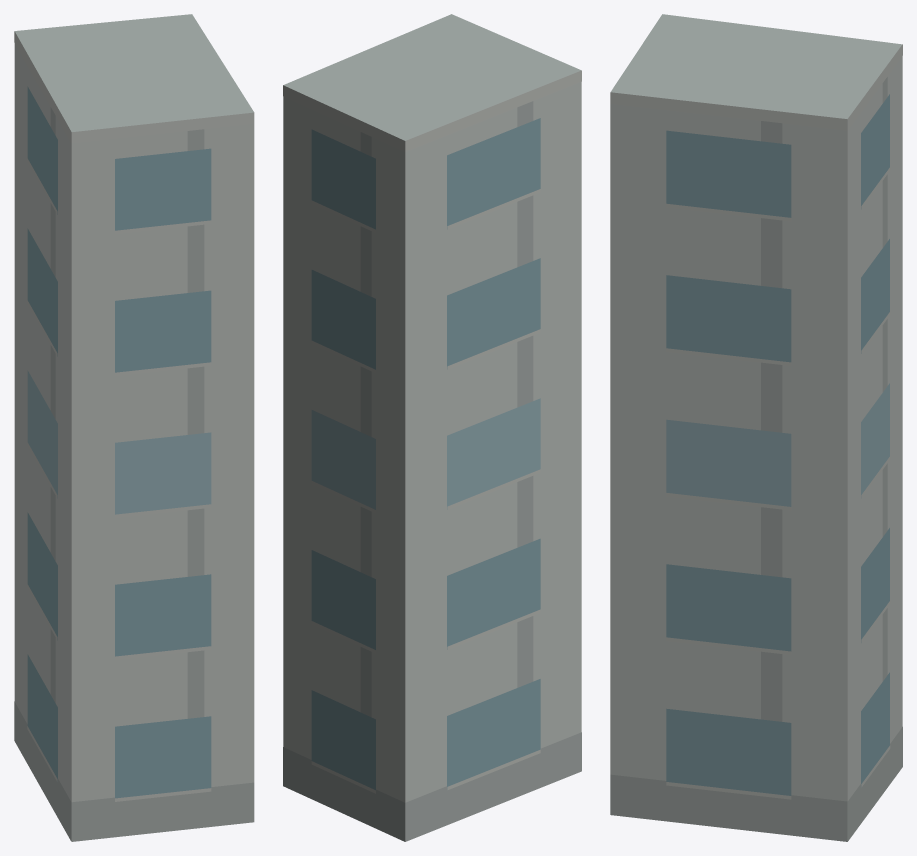
Rendered from survey-upis-32504888.glb.
The picture shows the model from 3 angles, left to right: view 1: azimuth 30°, elevation 25°; view 2: azimuth 150°, elevation 25°; view 3: azimuth 270°, elevation 25°; orthographic projection. The views are drawn at different scales.
Visible parts, largest first — view 1: survey-upis-32504888.tmp; view 2: survey-upis-32504888.tmp; view 3: survey-upis-32504888.tmp.
Boxes of the visible parts, left/top/right/bottom form: survey-upis-32504888.tmp: left=14, top=14, right=254, bottom=841; survey-upis-32504888.tmp: left=283, top=14, right=581, bottom=841; survey-upis-32504888.tmp: left=610, top=14, right=902, bottom=841.
Bounding box in the file's own units: 4.77 × 15.25 × 5.6.
